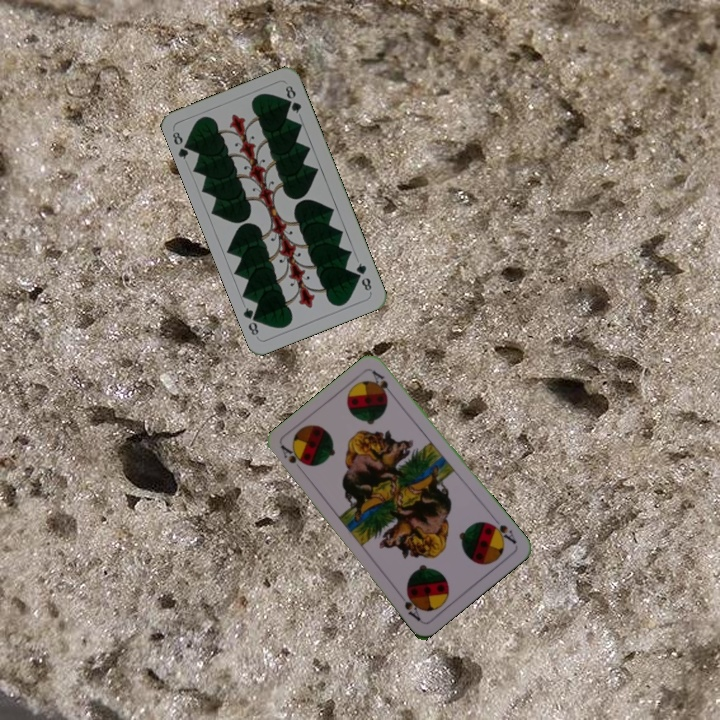G8: (168, 127, 195, 162), (352, 259, 374, 293)
SA: (484, 513, 519, 547), (277, 441, 305, 467)
